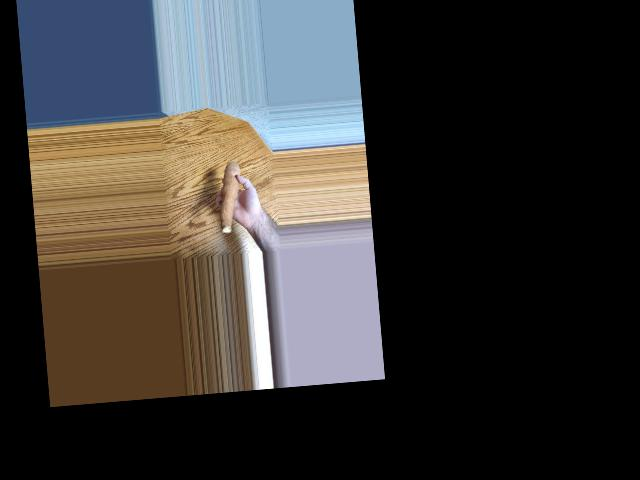sweet_potato: (215, 157, 242, 231)
